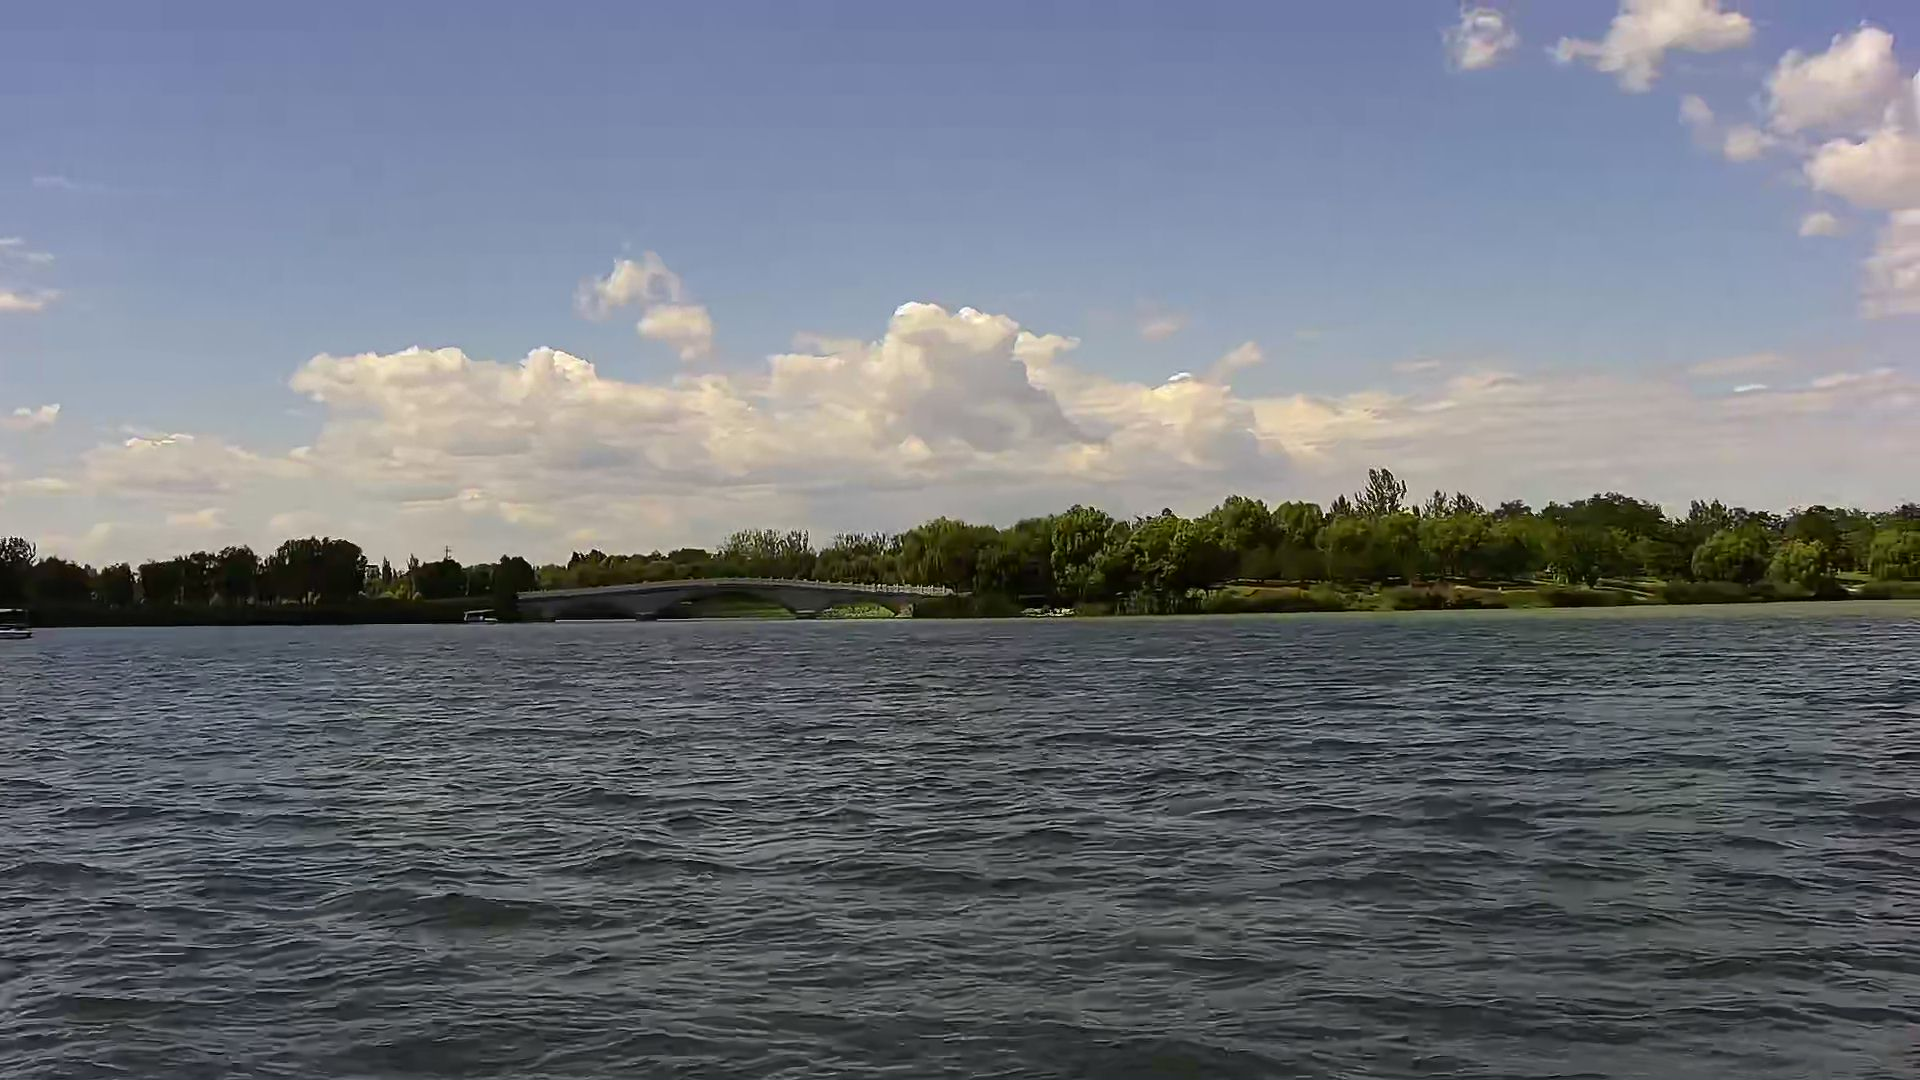bridge: (520, 578, 971, 620)
